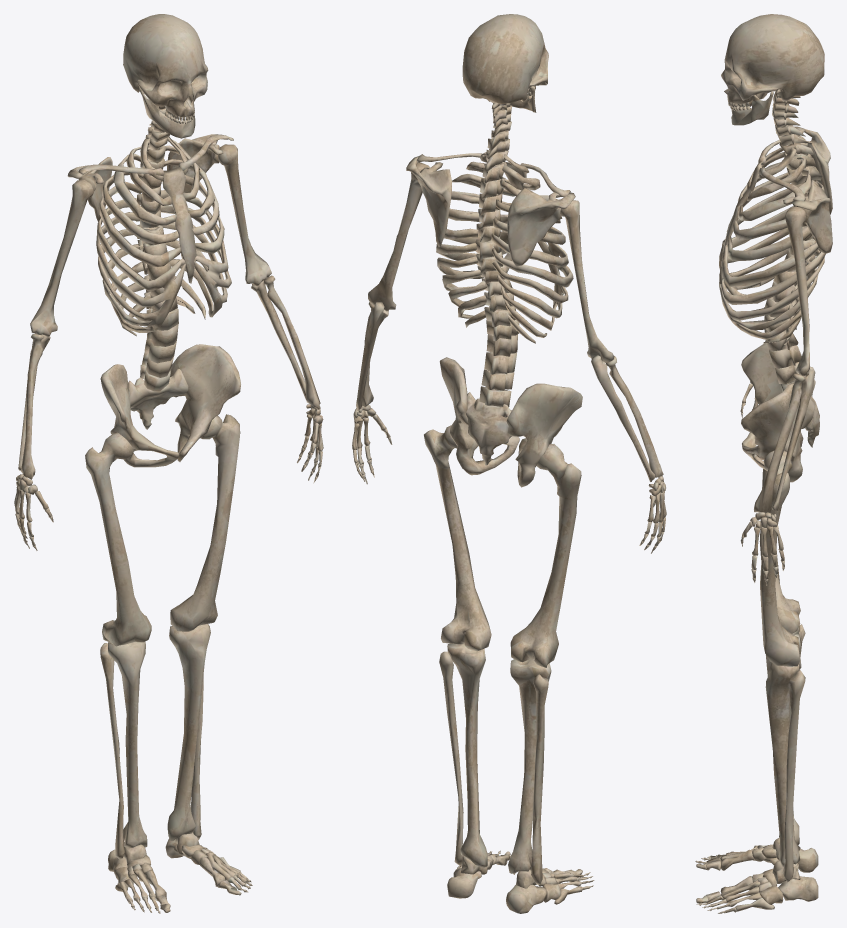
File: skeleton.glb
3 renders of one model, left to right at view 1: azimuth 30°, elevation 25°; view 2: azimuth 150°, elevation 25°; view 3: azimuth 270°, elevation 25°, orthographic.
Visible parts, largest first — view 1: SK_Side, SK_Coccyx, SK_Head, SK_LLegDown, SK_RLegUp, SK_RLegDown, SK_LLegUp, SK_Spine, SK_RArmUp, SK_RFoot, SK_LArmDown, SK_LFoot (+6 smaller); view 2: SK_Side, SK_Coccyx, SK_Spine, SK_Head, SK_RLegDown, SK_LLegDown, SK_RLegUp, SK_LLegUp, SK_RClavicle, SK_RFoot, SK_RArmDown, SK_LClavicle (+6 smaller); view 3: SK_Side, SK_Head, SK_LLegDown, SK_Coccyx, SK_Spine, SK_LLegUp, SK_LFoot, SK_LArmDown, SK_LClavicle, SK_LArmUp, SK_RFoot, SK_HandL (+3 smaller).
Part boxes in pixels (<box>): SK_Side: <box>96,137,231,336</box>; SK_Coccyx: <box>100,344,240,467</box>; SK_Head: <box>123,14,208,138</box>; SK_LLegDown: <box>167,624,210,840</box>; SK_RLegUp: <box>85,432,151,646</box>; SK_RLegDown: <box>100,642,147,859</box>; SK_LLegUp: <box>170,414,240,631</box>; SK_Spine: <box>136,105,178,391</box>; SK_RArmUp: <box>30,180,93,337</box>; SK_RFoot: <box>108,841,170,913</box>; SK_LArmDown: <box>251,275,320,409</box>; SK_LFoot: <box>165,832,252,895</box>; SK_Side: <box>436,152,573,343</box>; SK_Coccyx: <box>439,357,582,487</box>; SK_Spine: <box>475,102,519,406</box>; SK_Head: <box>462,14,548,112</box>; SK_RLegDown: <box>508,659,551,884</box>; SK_LLegDown: <box>439,643,487,867</box>; SK_RLegUp: <box>510,444,581,667</box>; SK_LLegUp: <box>424,425,491,651</box>; SK_RClavicle: <box>507,163,575,266</box>; SK_RFoot: <box>506,868,594,913</box>; SK_RArmDown: <box>591,355,663,481</box>; SK_LClavicle: <box>406,153,482,247</box>; SK_Side: <box>719,147,825,344</box>; SK_Head: <box>721,14,824,125</box>; SK_LLegDown: <box>765,655,805,882</box>; SK_Coccyx: <box>741,343,819,482</box>; SK_Spine: <box>764,92,822,391</box>; SK_LLegUp: <box>760,450,800,666</box>; SK_LFoot: <box>696,861,818,913</box>; SK_LArmDown: <box>754,366,815,512</box>; SK_LClavicle: <box>758,167,832,253</box>; SK_LArmUp: <box>785,206,809,375</box>; SK_RFoot: <box>695,837,818,872</box>; SK_HandL: <box>740,512,784,585</box>.
Size of the model in its own units: 1.23 by 3.36 by 0.483.
Materials: 1 (1 with a texture image).
